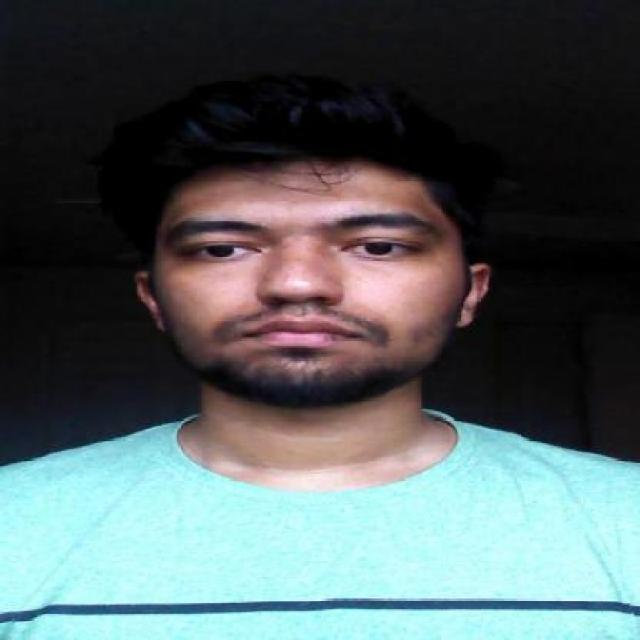awake: (337, 235, 421, 260), (175, 239, 260, 263)
